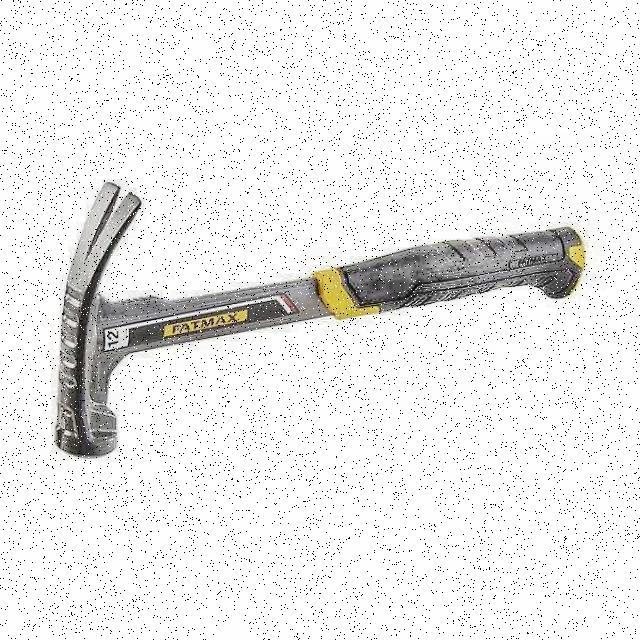hammer: (56, 180, 584, 461)
